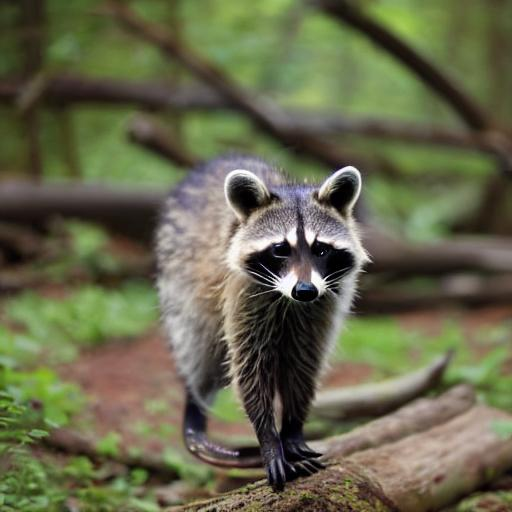raccoon: (148, 149, 380, 402)
